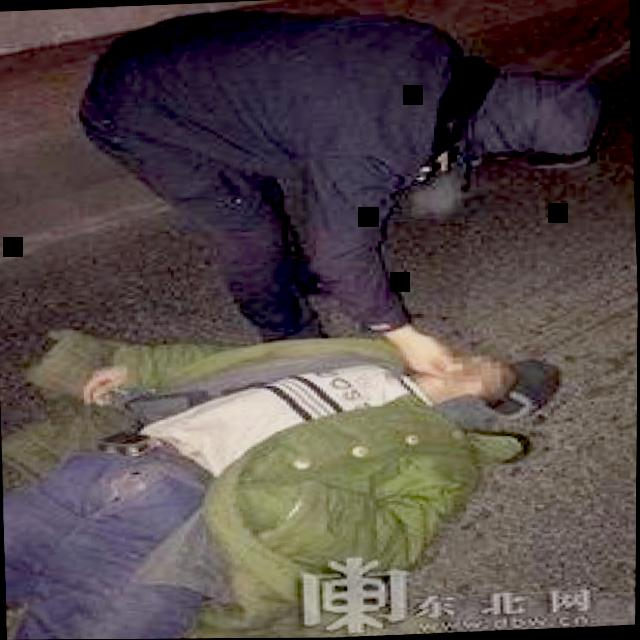Fall-Detected: (2, 300, 562, 640)
